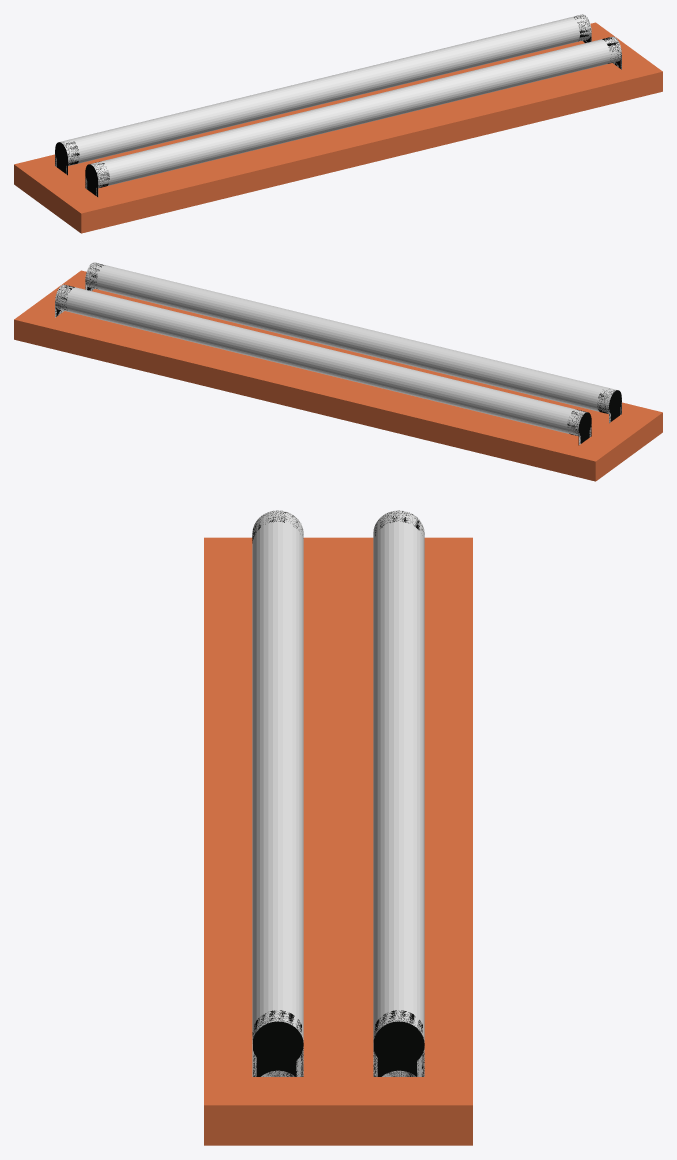
File: Lampada.fbx
The picture shows the model from 3 angles, top to bottom: view 1: azimuth 30°, elevation 25°; view 2: azimuth 150°, elevation 25°; view 3: azimuth 270°, elevation 25°; orthographic projection. The views are drawn at different scales.
Visible parts, largest first — view 1: Cube, Cylinder.002, Cylinder.001; view 2: Cube, Cylinder.001, Cylinder.002; view 3: Cube, Cylinder.001, Cylinder.002.
Boxes of the visible parts, <box> form: Cube: <box>14,22,662,233</box>; Cylinder.002: <box>85,36,621,197</box>; Cylinder.001: <box>55,14,591,175</box>; Cube: <box>14,270,662,481</box>; Cylinder.001: <box>55,284,591,445</box>; Cylinder.002: <box>85,262,621,423</box>; Cube: <box>204,537,472,1145</box>; Cylinder.001: <box>373,510,424,1076</box>; Cylinder.002: <box>252,510,303,1076</box>.
Size of the model in its own units: 1000 by 78.6 by 200.
